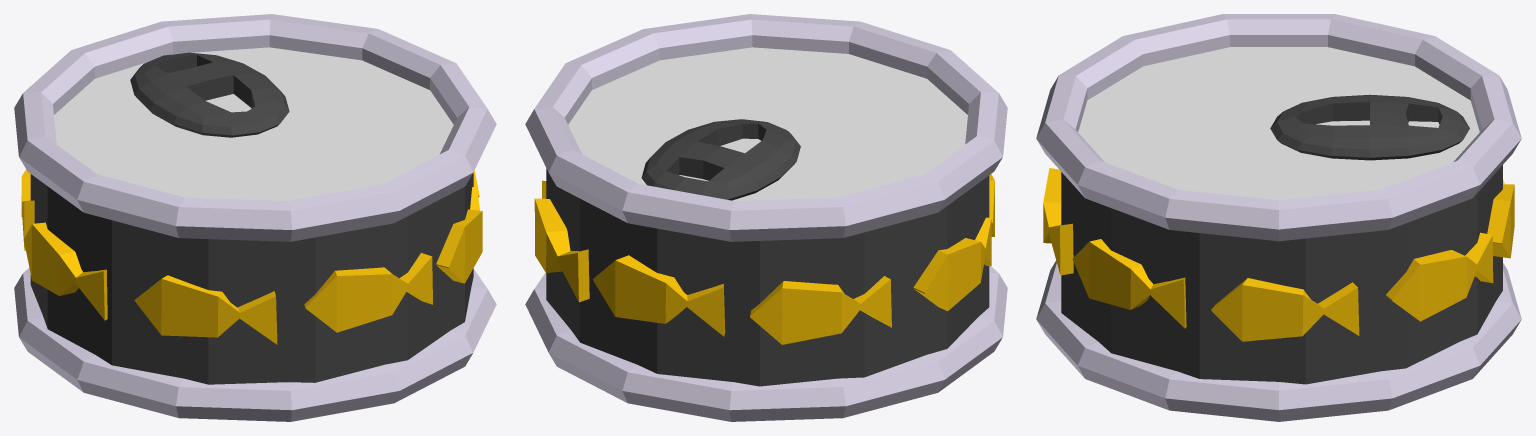
The model's file is NekoKan.fbx.
3 views of the same model, side by side, from view 1: azimuth 30°, elevation 25°; view 2: azimuth 150°, elevation 25°; view 3: azimuth 270°, elevation 25° (orthographic).
Parts seen in each view (by area): view 1: 円柱, トーラス, トーラス.001, 立方体, 立方体.009, 立方体.002, 立方体.008, 立方体.004, 立方体.007; view 2: 円柱, トーラス, トーラス.001, 立方体, 立方体.007, 立方体.006, 立方体.008, 立方体.005; view 3: 円柱, トーラス, トーラス.001, 立方体, 立方体.003, 立方体.005, 立方体.004, 立方体.002, 立方体.006.
Part boxes in pixels (x1,y1,x2,y2): 円柱: (30,47,473,384); トーラス: (14,14,496,241); トーラス.001: (14,268,496,421); 立方体: (130,52,289,137); 立方体.009: (134,275,277,344); 立方体.002: (304,253,432,332); 立方体.008: (24,222,107,320); 立方体.004: (436,187,482,283); 立方体.007: (21,169,34,250); 円柱: (546,47,989,386); トーラス: (525,14,1007,241); トーラス.001: (525,266,1007,421); 立方体: (641,119,800,200); 立方体.007: (750,276,891,344); 立方体.006: (593,255,725,336); 立方体.008: (913,217,991,311); 立方体.005: (534,198,589,302); 円柱: (1061,47,1502,384); トーラス: (1036,14,1521,241); トーラス.001: (1036,260,1521,421); 立方体: (1270,94,1469,160); 立方体.003: (1211,278,1359,341); 立方体.005: (1386,232,1493,321); 立方体.004: (1072,239,1186,328); 立方体.002: (1043,168,1073,275); 立方体.006: (1487,179,1514,258).
Size of the model in its own units: 10.76 by 5.32 by 10.84.
